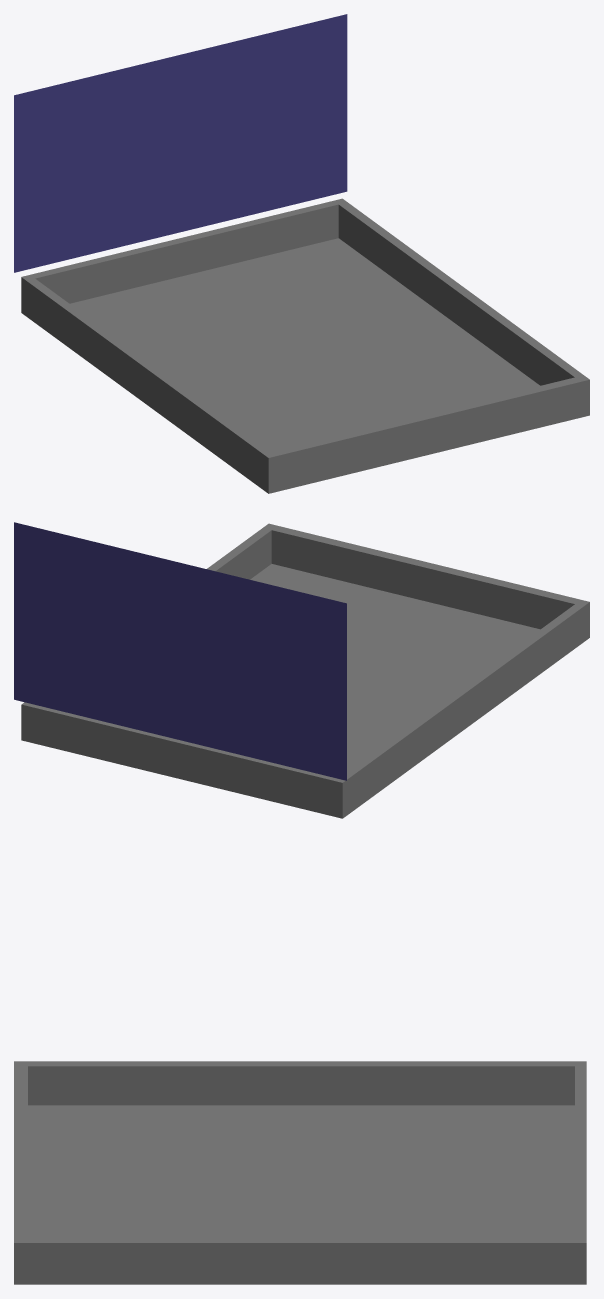
File: boxActivity.FBX
3 renders of one model, top to bottom at view 1: azimuth 30°, elevation 25°; view 2: azimuth 150°, elevation 25°; view 3: azimuth 270°, elevation 25°, orthographic. The views are drawn at different scales.
Parts seen in each view (by area): view 1: Box1, boxLabe; view 2: boxLabe, Box1; view 3: Box1.
Part boxes in pixels (x1=…): Box1: x1=21, y1=198, x2=589, y2=493; boxLabe: x1=14, y1=14, x2=347, y2=272; boxLabe: x1=14, y1=522, x2=346, y2=780; Box1: x1=21, y1=523, x2=589, y2=818; Box1: x1=14, y1=1061, x2=586, y2=1284.
Bounding box in the file's own units: 31.11 × 19.43 × 40.23.
